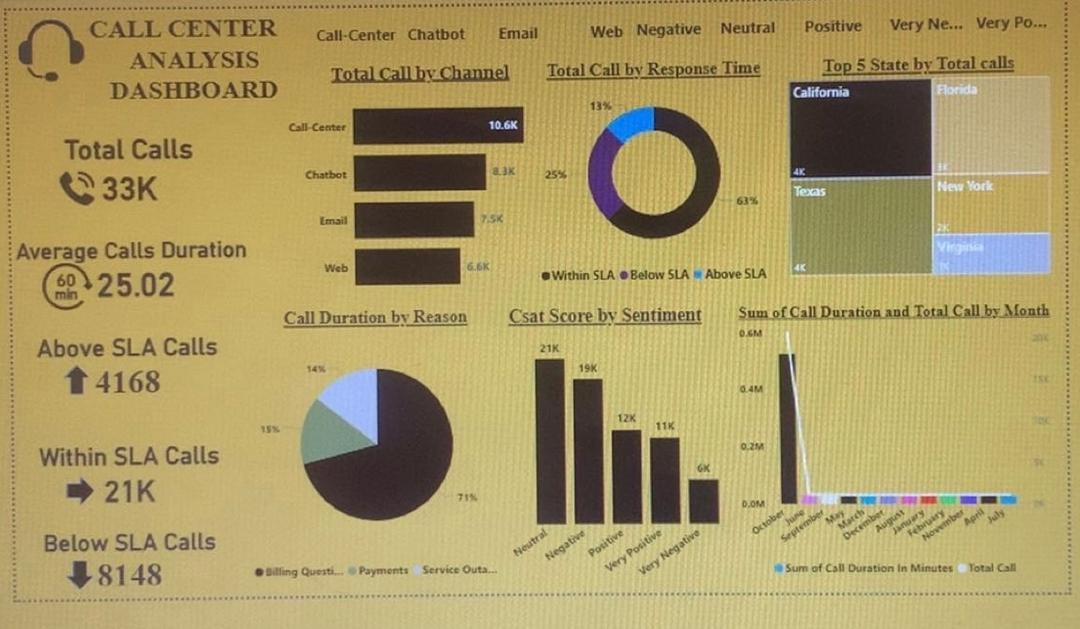

The page's visual inventory and layout, read from the dashboard file:
{"tool":"powerbi","page":{"name":"Page 1","canvas":[1280,720],"ordinal":0},"visuals":[{"type":"card","title":"Total Calls","fields":{"Values":["Call Center_Call Center.Total Call"]},"box":[10.1,0,279.4,109.4],"z":0},{"type":"card","title":"Within SLA Calls ","fields":{"Values":["Call Center_Call Center.Within SLA Calls"]},"box":[10.1,194.4,279.4,121],"z":1000},{"type":"card","title":"Below SLA Calls","fields":{"Values":["Call Center_Call Center.Below SLA Calls"]},"box":[10.1,387.4,279.4,105.1],"z":2000},{"type":"card","title":"Above SLA Calls","fields":{"Values":["Call Center_Call Center.Above SLA Calls"]},"box":[10.1,542.9,279.4,103.7],"z":3000},{"type":"card","title":"Average Calls Duration ","fields":{"Values":["Call Center_Call Center.Average Call duration"]},"box":[249.1,0,299.5,96.5],"z":4000},{"type":"barChart","fields":{"Y":["Call Center_Call Center.Total Call"],"Category":["Call Center_Call Center.Channel"]},"box":[279.4,110.9,338.4,165.6],"z":5000},{"type":"donutChart","fields":{"Category":["Call Center_Call Center.Response Time"],"Y":["Call Center_Call Center.Total Call"]},"box":[312.5,301,338.4,190.1],"z":6000},{"type":"pieChart","fields":{"Category":["Call Center_Call Center.Reason"],"Y":["Sum(Call Center_Call Center.Call Duration In Minutes)"]},"box":[301,519.8,338.4,177.1],"z":7000},{"type":"columnChart","fields":{"Y":["Sum(Call Center_Call Center.Csat Score)"],"Category":["Call Center_Call Center.Sentiment"]},"box":[577.4,31.7,338.4,180],"z":8000},{"type":"treemap","title":"Total Calls by Top 5 State","fields":{"Group":["Call Center_Call Center.State"],"Values":["Call Center_Call Center.Total Call"]},"box":[915.5,5,337.6,179.7],"z":9000},{"type":"lineClusteredColumnComboChart","fields":{"Category":["calender.Month"],"Y2":["Call Center_Call Center.Total Call"],"Y":["Sum(Call Center_Call Center.Call Duration In Minutes)"]},"box":[849.2,330.8,403.1,366.2],"z":10000},{"type":"image","box":[650.6,301.2,161.7,59.3],"z":11000}]}

Visuals, with their boxes on the page's 1280x720 design canvas (x1, y1, x2, y2). These are canvas units, not pixel positions in the 1080x629 screenshot, which may show the page scaled, cropped or inside an application window:
"Total Calls" card: box(10, 0, 290, 109)
"Within SLA Calls " card: box(10, 194, 290, 315)
"Below SLA Calls" card: box(10, 387, 290, 492)
"Above SLA Calls" card: box(10, 543, 290, 647)
"Average Calls Duration " card: box(249, 0, 549, 96)
barChart - Call Center_Call Center.Total Call x Call Center_Call Center.Channel: box(279, 111, 618, 276)
donutChart - Call Center_Call Center.Response Time x Call Center_Call Center.Total Call: box(312, 301, 651, 491)
pieChart - Call Center_Call Center.Reason x Sum(Call Center_Call Center.Call Duration In Minutes): box(301, 520, 639, 697)
columnChart - Sum(Call Center_Call Center.Csat Score) x Call Center_Call Center.Sentiment: box(577, 32, 916, 212)
"Total Calls by Top 5 State" treemap: box(916, 5, 1253, 185)
lineClusteredColumnComboChart - calender.Month x Call Center_Call Center.Total Call: box(849, 331, 1252, 697)
image: box(651, 301, 812, 360)
